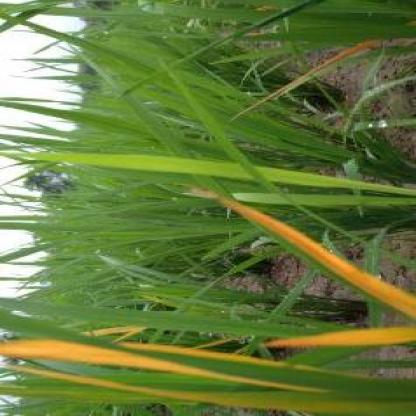Tungro: (232, 200, 416, 325), (1, 341, 354, 393), (258, 320, 416, 351)
